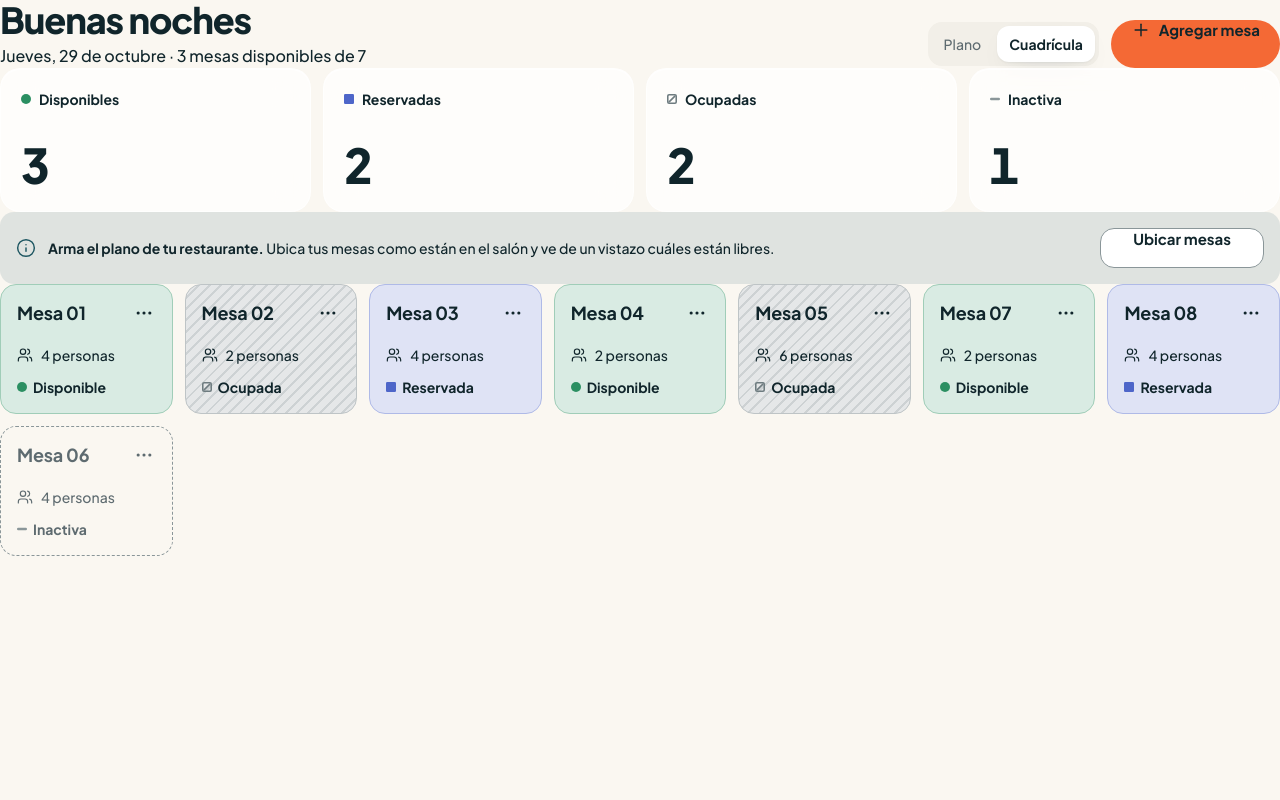
Test case: TablesPage · cambiar estado › one picker at a time; an inactive table offers "Reactivar mesa" instead of statuses
Check: the list named "Mesas" is shown, box top-left (0, 284), bottom-right (1279, 556)
Click the button "Mesa 01".
click(51, 313)  # box top-left (17, 301), bottom-right (86, 325)
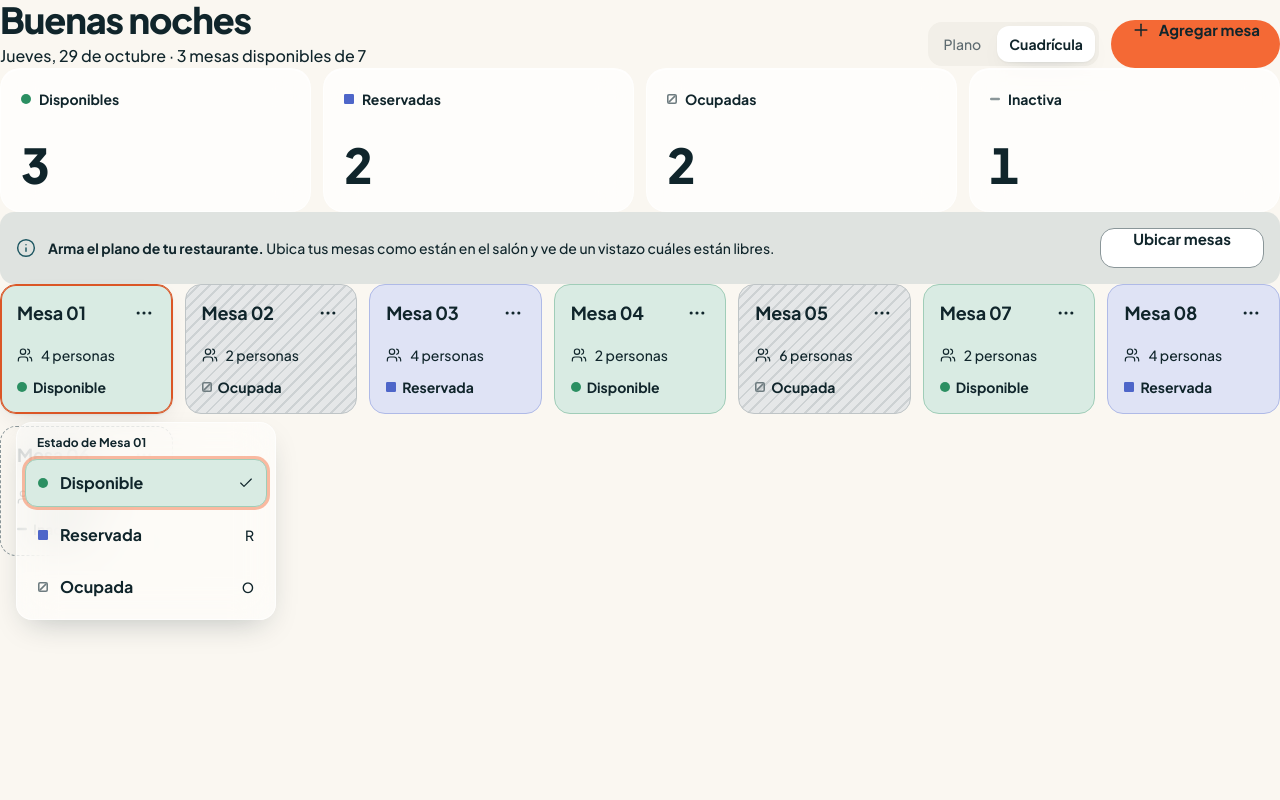
Click the button "Mesa 02".
click(238, 313)  # box top-left (202, 301), bottom-right (274, 325)
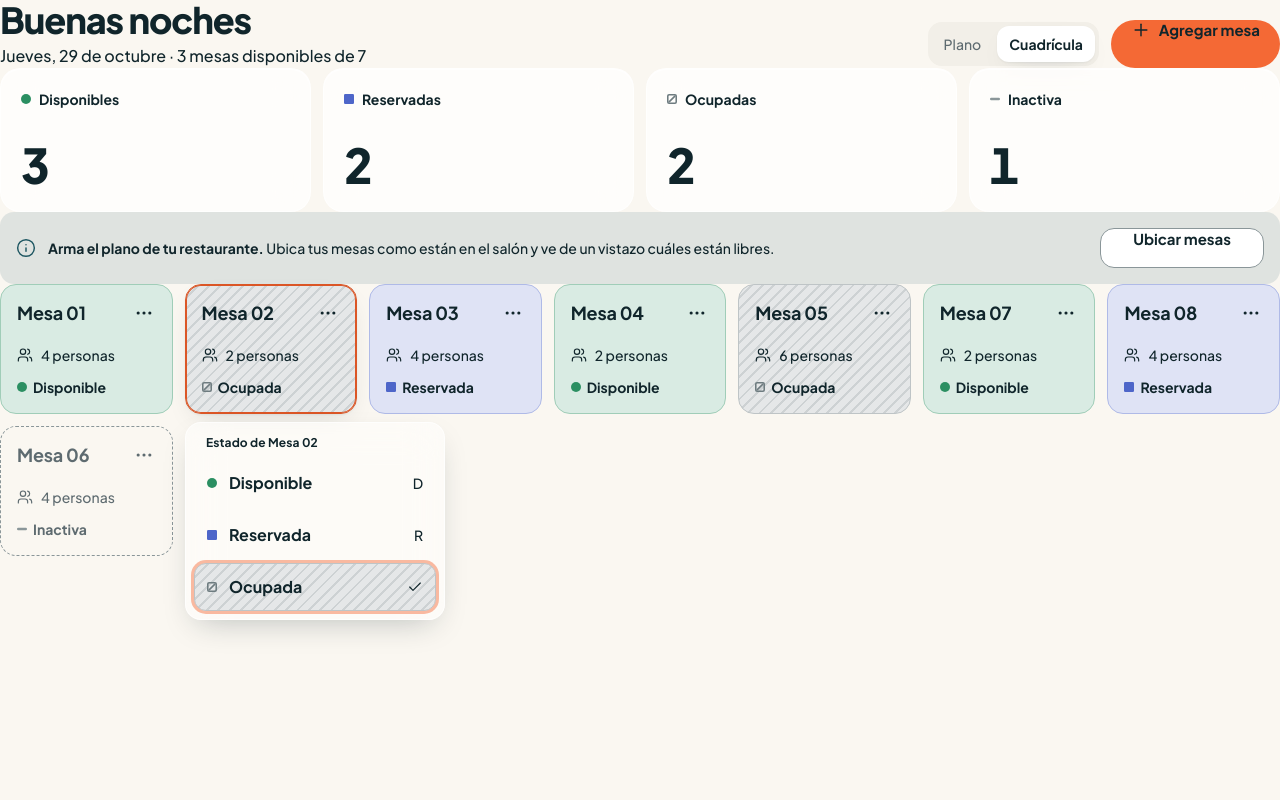
Check: the number of elements named "Estado de" is 1, box top-left (194, 459), bottom-right (436, 611)
Click the button "Mesa 06".
click(53, 455)  # box top-left (17, 443), bottom-right (89, 467)
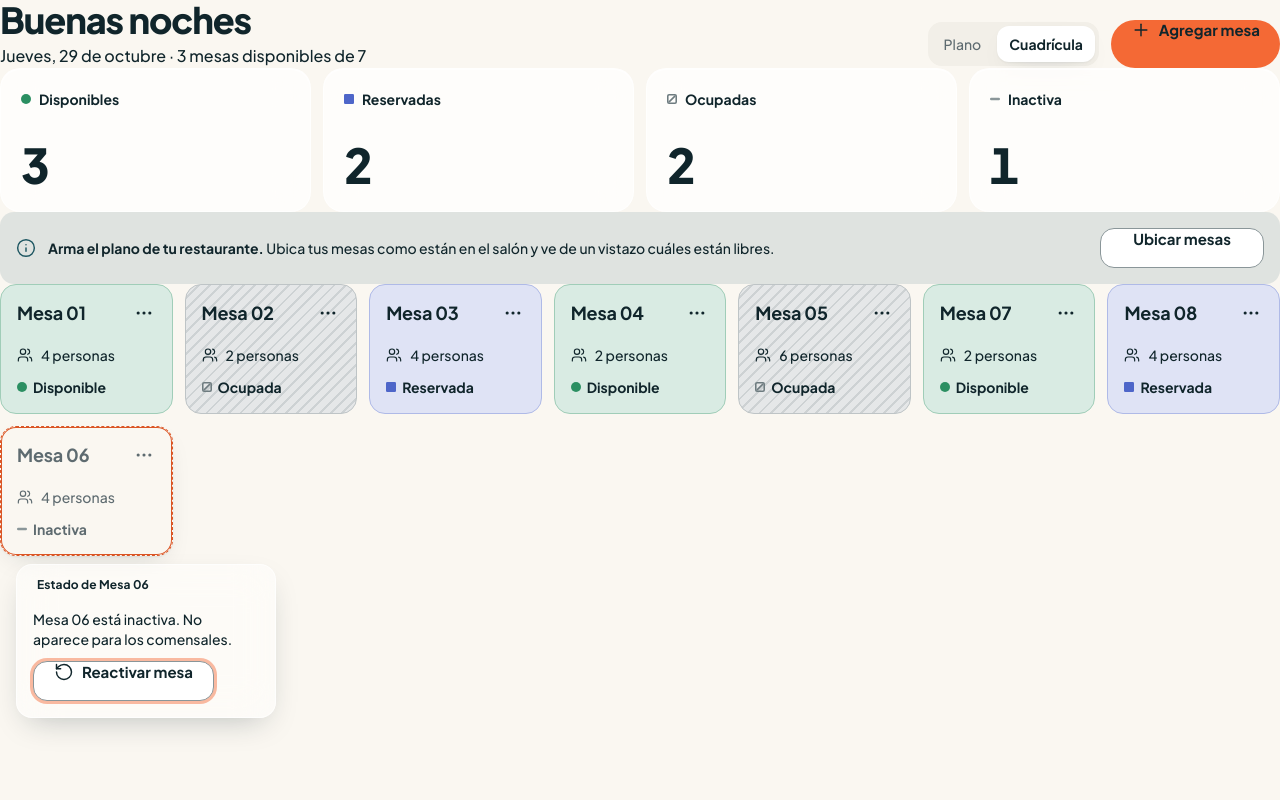
Check: the text "Mesa 06 está inactiva. No aparece para los comensales." is shown, box top-left (33, 609), bottom-right (259, 649)
Check: the button "Reactivar mesa" is shown, box top-left (33, 661), bottom-right (214, 701)
